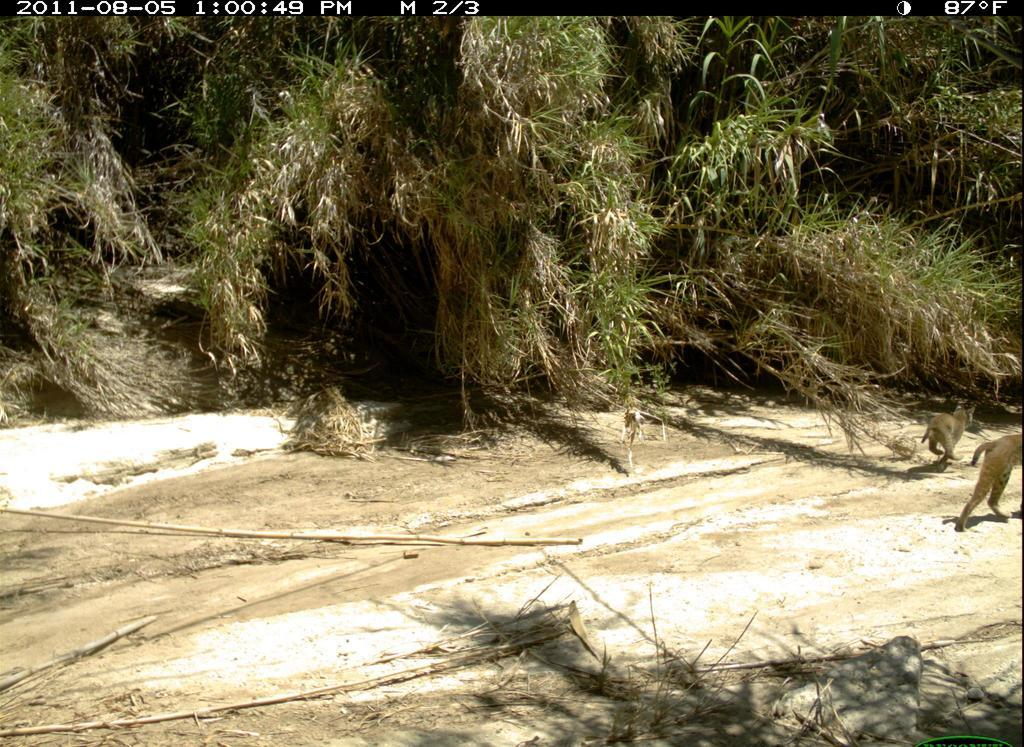bobcat: (954, 428, 1023, 539), (914, 401, 980, 468)
